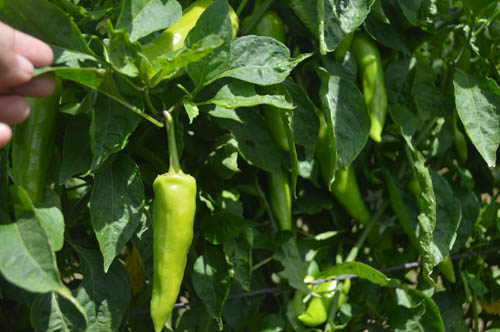ChiliPepper: (148, 172, 201, 322), (246, 13, 297, 149), (315, 120, 366, 219), (355, 35, 385, 147), (271, 158, 296, 232)
